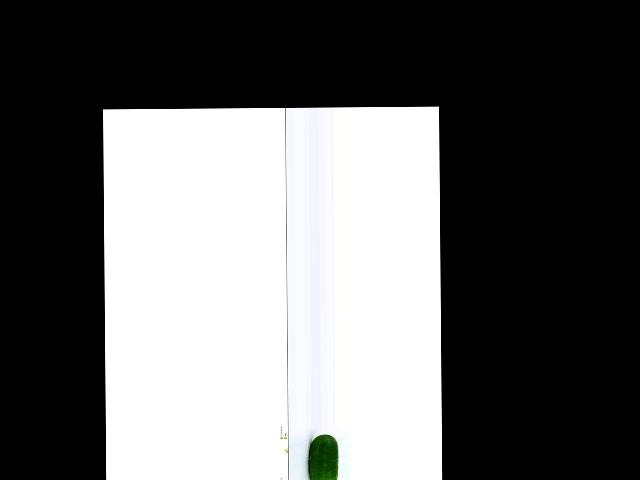cucumber: (308, 434, 337, 480)
